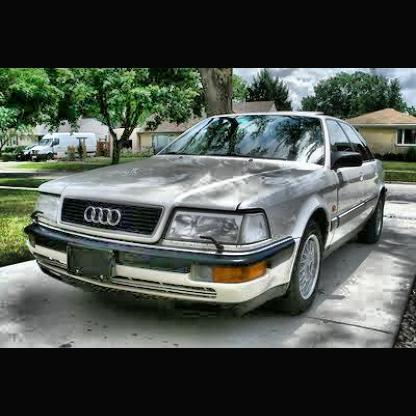Audi V8 Sedan 1994: (20, 110, 390, 318)
